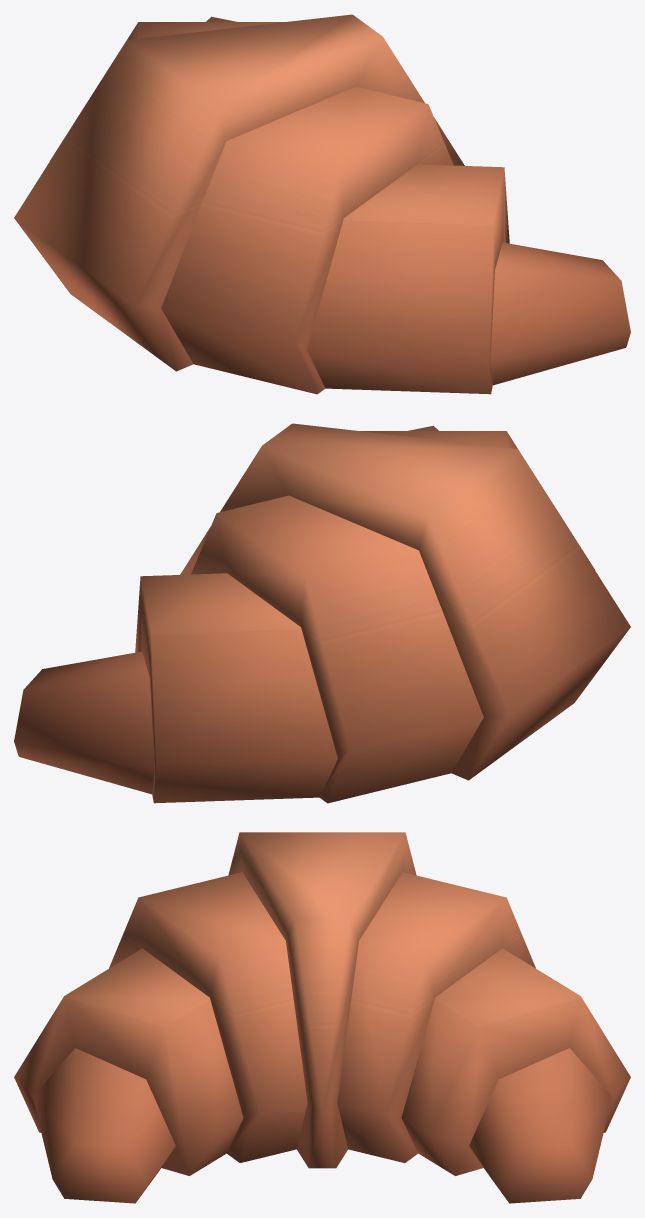
File: croissant.glb
3 views of the same model, one above another, from view 1: azimuth 30°, elevation 25°; view 2: azimuth 150°, elevation 25°; view 3: azimuth 270°, elevation 25° (orthographic). The views are drawn at different scales.
Visible parts, largest first — view 1: croissant; view 2: croissant; view 3: croissant.
Part boxes in pixels (x1,y1,x2,y2): croissant: (14,14,630,394); croissant: (14,423,630,803); croissant: (14,832,630,1203).
Size of the model in its own units: 0.3461 by 0.1936 by 0.4777.
1 material, 1 textured.
